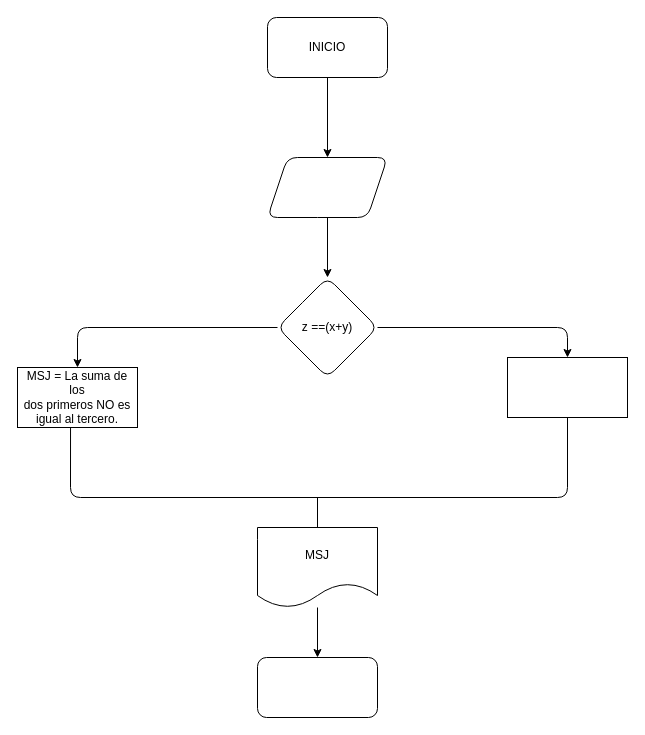
Image size: 645x735. Some labels were removed from this diagram. Each missing label, with the centre of its shape:
"MSJ = La suma de los dos primeros es igual al tercero." goes at (567,387).
"x , y . z" goes at (327,187).
